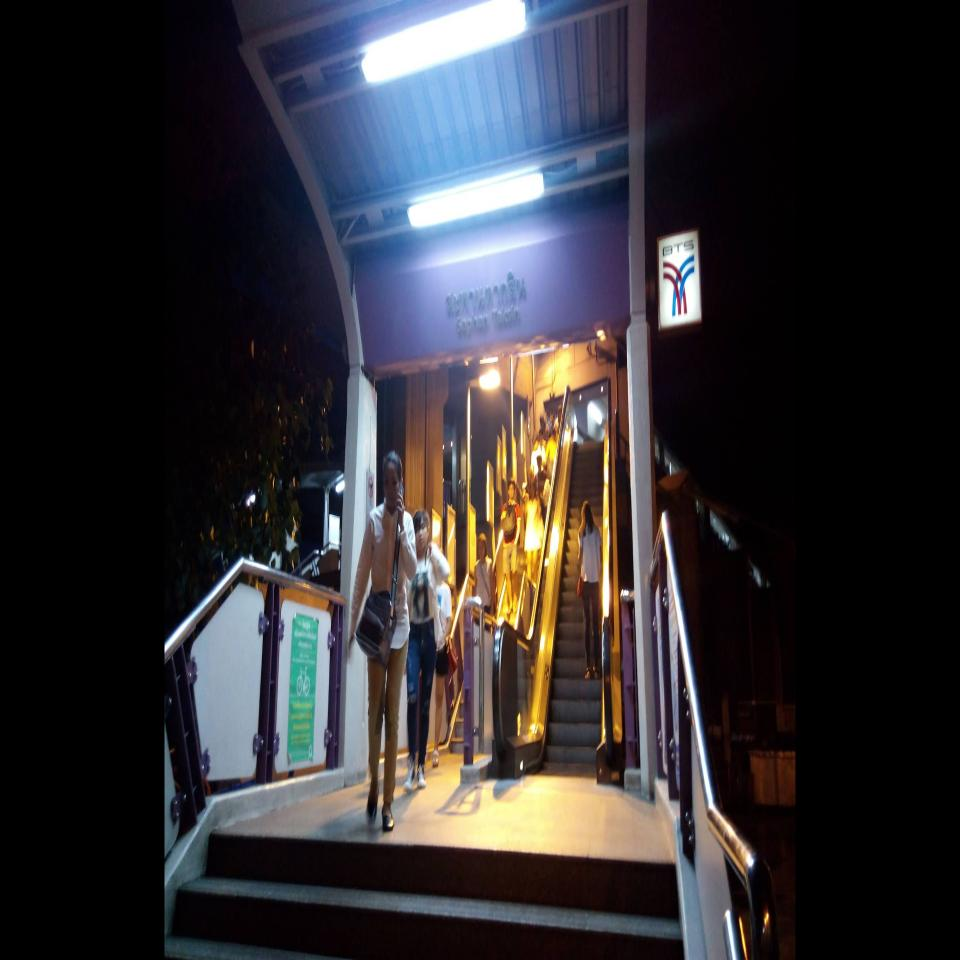Saphan Taksin: (354, 216, 704, 366), (353, 217, 629, 368)
